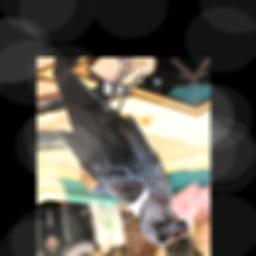Crow: (51, 59, 194, 256)
